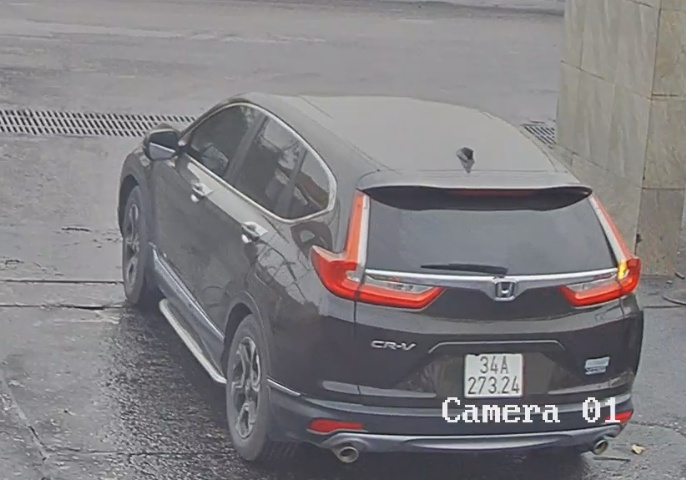vehicle plate: (464, 343, 525, 404)
